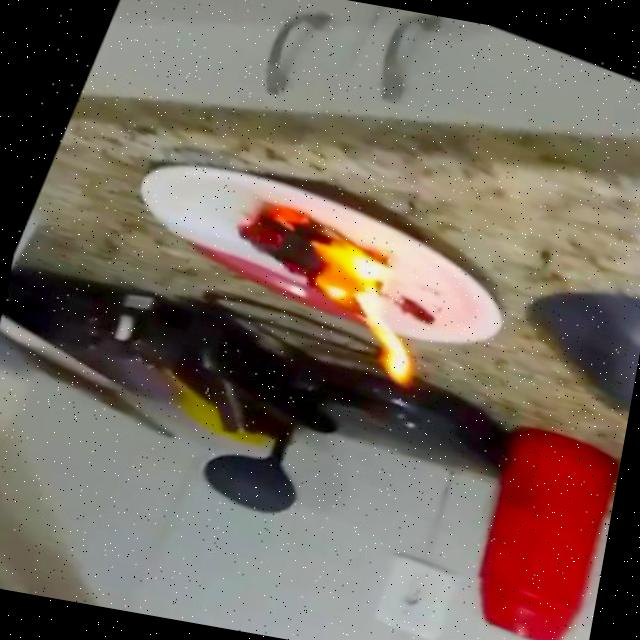fire: (187, 181, 468, 398)
